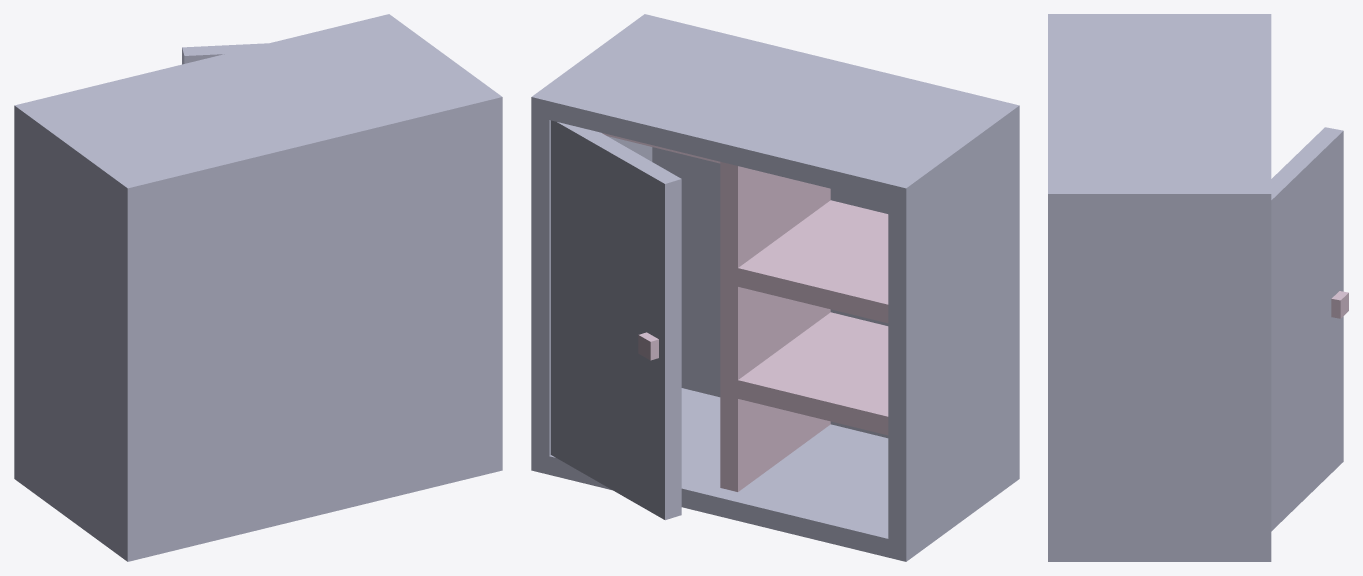
Rendered from Wardrobe.fbx.
The picture shows the model from 3 angles, left to right: view 1: azimuth 30°, elevation 25°; view 2: azimuth 150°, elevation 25°; view 3: azimuth 270°, elevation 25°; orthographic projection.
Parts seen in each view (by area): view 1: pCube1; view 2: pCube1; view 3: pCube1.
Boxes of the visible parts, box(x1,y1,x2,y2) form: pCube1: box(14, 14, 502, 561); pCube1: box(531, 14, 1019, 561); pCube1: box(1048, 14, 1348, 561).
Bounding box in the file's own units: 21 × 20 × 14.82.
